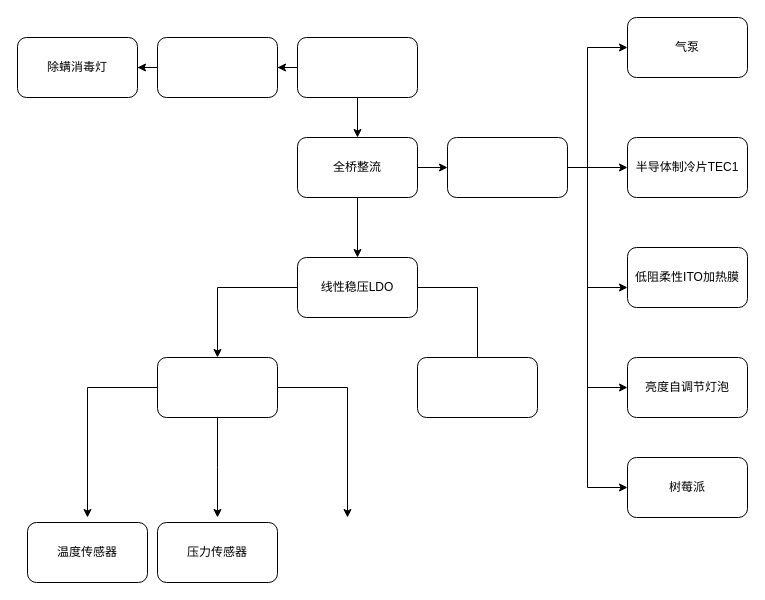
Some shapes in this 765 by 600 pixel diagram are drawn without their labels. The shapes that lost their labels are listed below. From the top down, each one's box as (x1, y1, x2, y2) in pixels, then its label:
(156, 36, 278, 98): 继电器
(296, 36, 418, 98): 交流电 输入
(446, 136, 568, 198): BUCK降压
(156, 356, 278, 418): HT32单片机
(416, 356, 538, 418): ESP32
